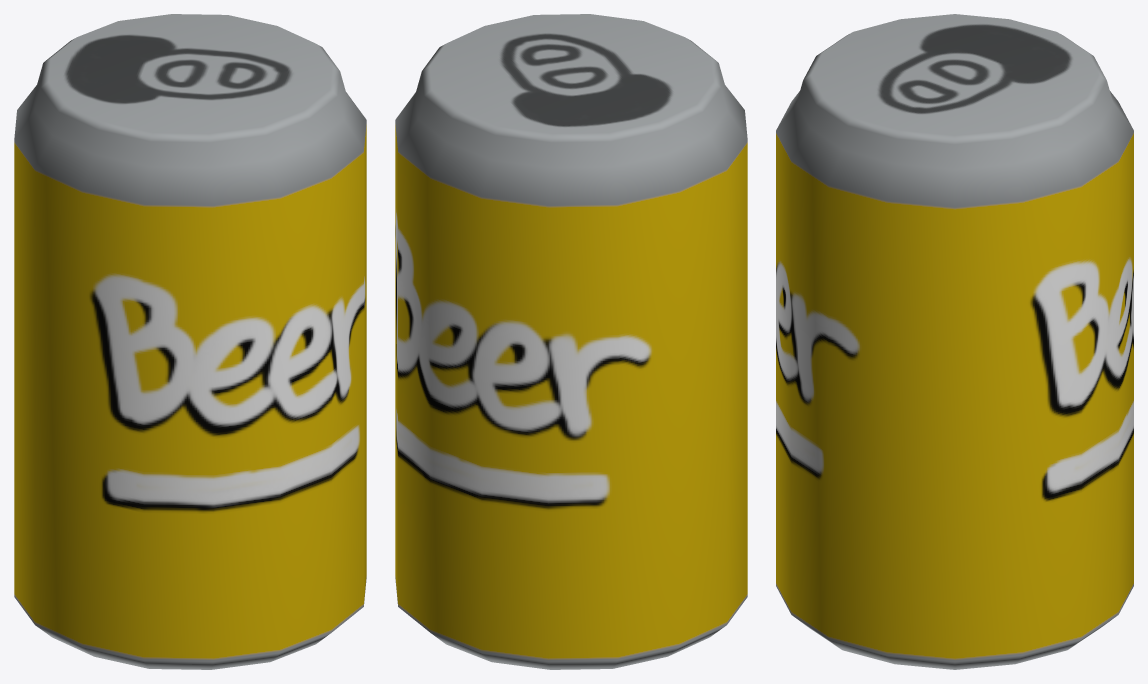
The model's file is BeerCan.fbx.
3 views of the same model, side by side, from view 1: azimuth 30°, elevation 25°; view 2: azimuth 150°, elevation 25°; view 3: azimuth 270°, elevation 25° (orthographic).
Parts seen in each view (by area): view 1: BeerCan; view 2: BeerCan; view 3: BeerCan.
Part boxes in pixels (<box>): BeerCan: <box>14,14,366,669</box>; BeerCan: <box>395,14,747,669</box>; BeerCan: <box>776,14,1133,669</box>.
Size of the model in its own units: 1.22 by 1.98 by 1.22.
